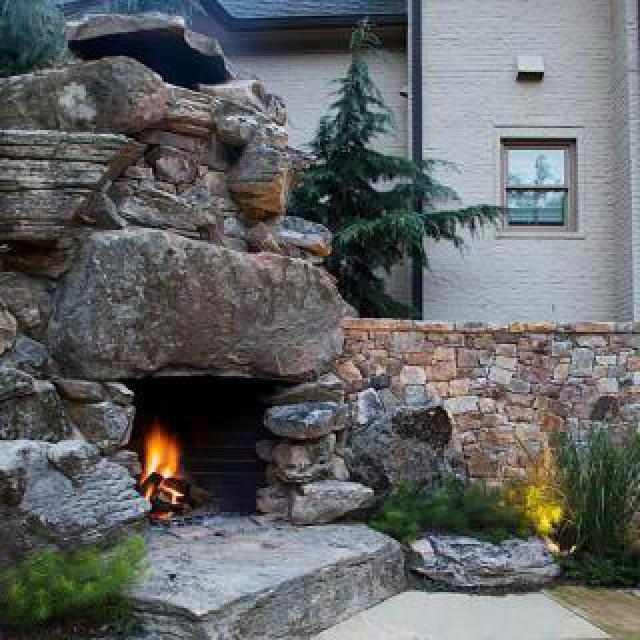Fire: (122, 408, 196, 514)
